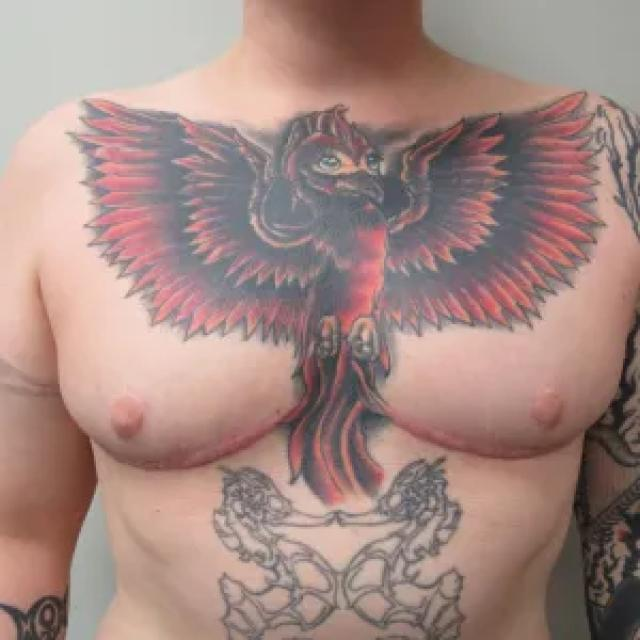Seno herido: (347, 260, 640, 484), (49, 260, 315, 489)
